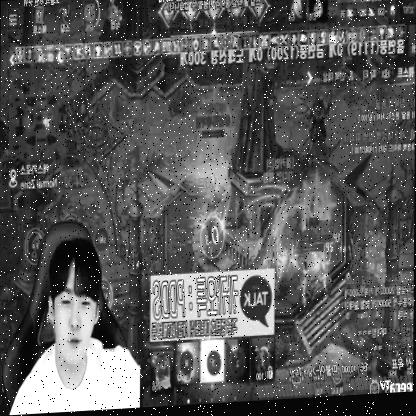streamer: (8, 232, 141, 416)
